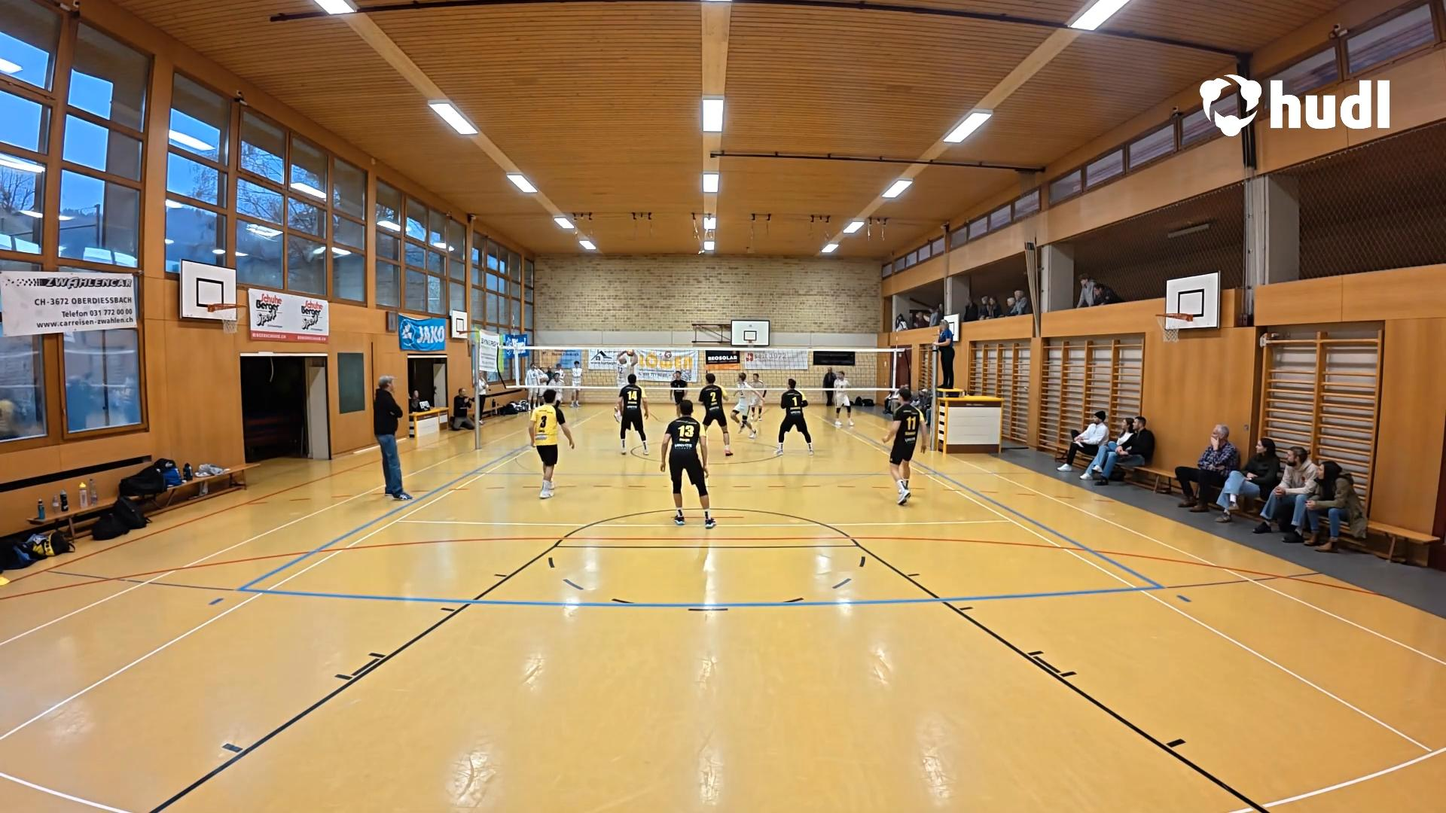Player: (661, 394, 716, 528), (885, 390, 926, 504), (527, 389, 569, 500), (615, 372, 654, 460), (773, 379, 813, 451), (700, 372, 732, 459), (732, 370, 759, 444), (830, 371, 854, 429), (744, 370, 768, 418), (667, 370, 690, 413), (542, 366, 568, 403)
Set: (614, 343, 637, 388)
ball: (626, 346, 635, 361)
